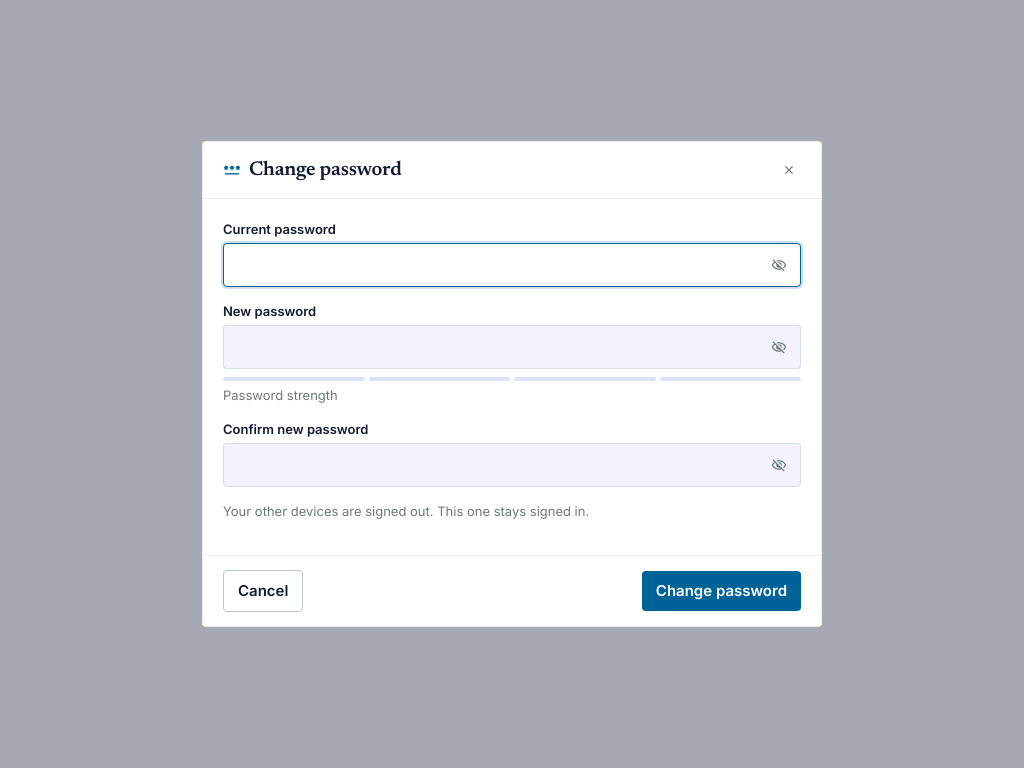
Test: ChangePasswordModal › checks the confirmation, the length and the missing current password first
The image size is (1024, 768).
Type "short" into the password field labelled "New password" at (512, 347), box [223,325,801,369]
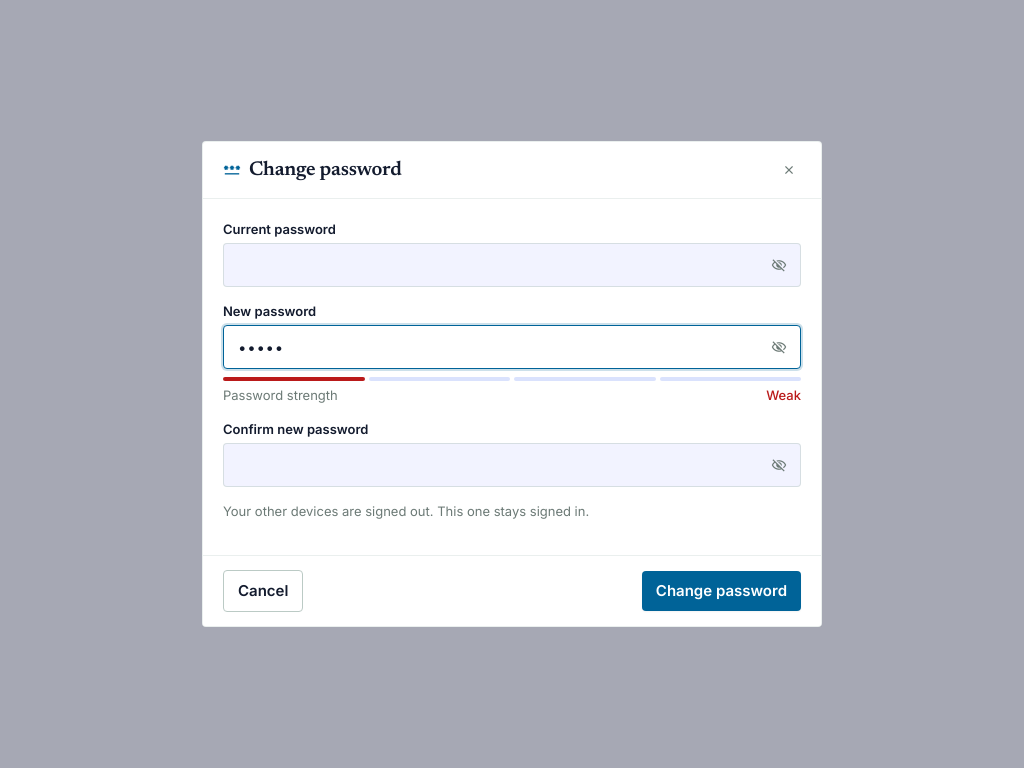
Type "different" into the password field labelled "Confirm new password" at (512, 465), box [223,443,801,487]
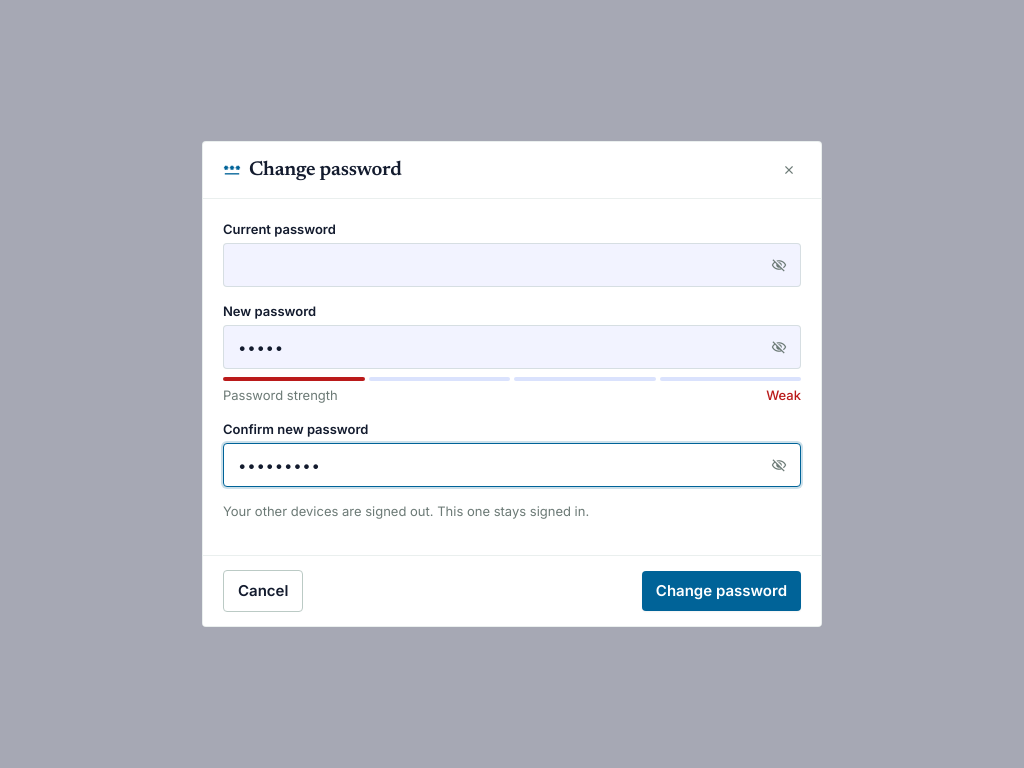
Click the button "Change password" at (721, 591), box [642,571,801,611]
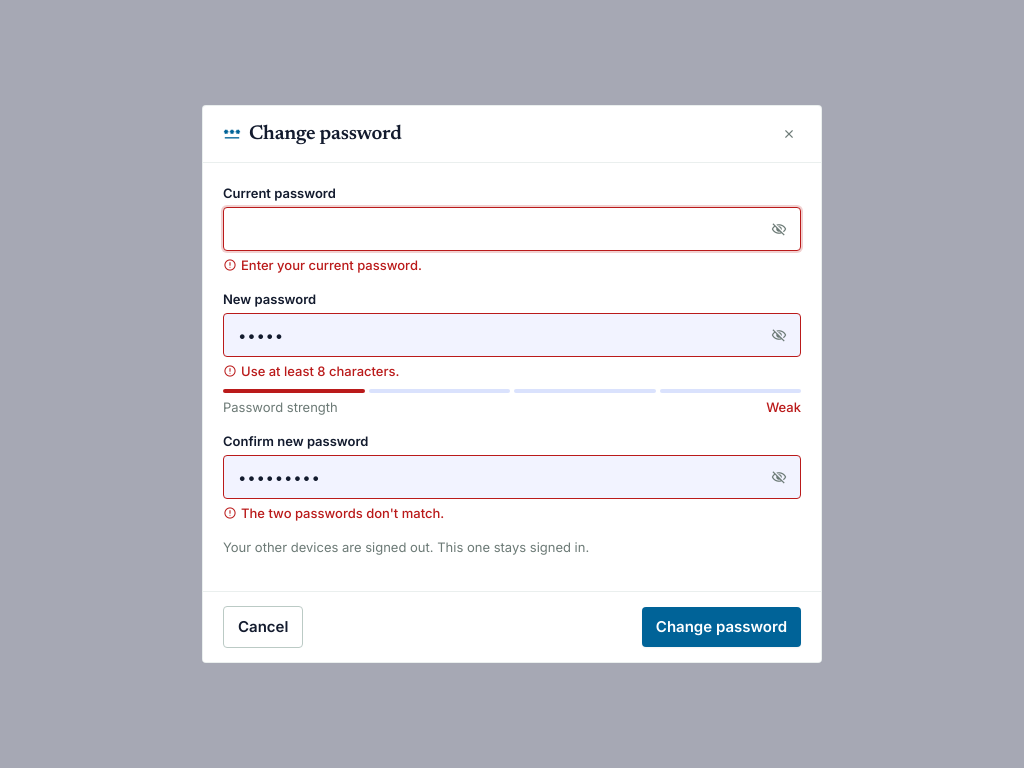
Expected: the text "Enter your current password." is shown, [223,257,422,273]
Expected: the text "Use at least 8 characters." is shown, [223,363,400,379]
Expected: the text "The two passwords don't match." is shown, [223,505,444,521]
